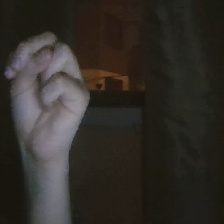N: (1, 28, 103, 177)
